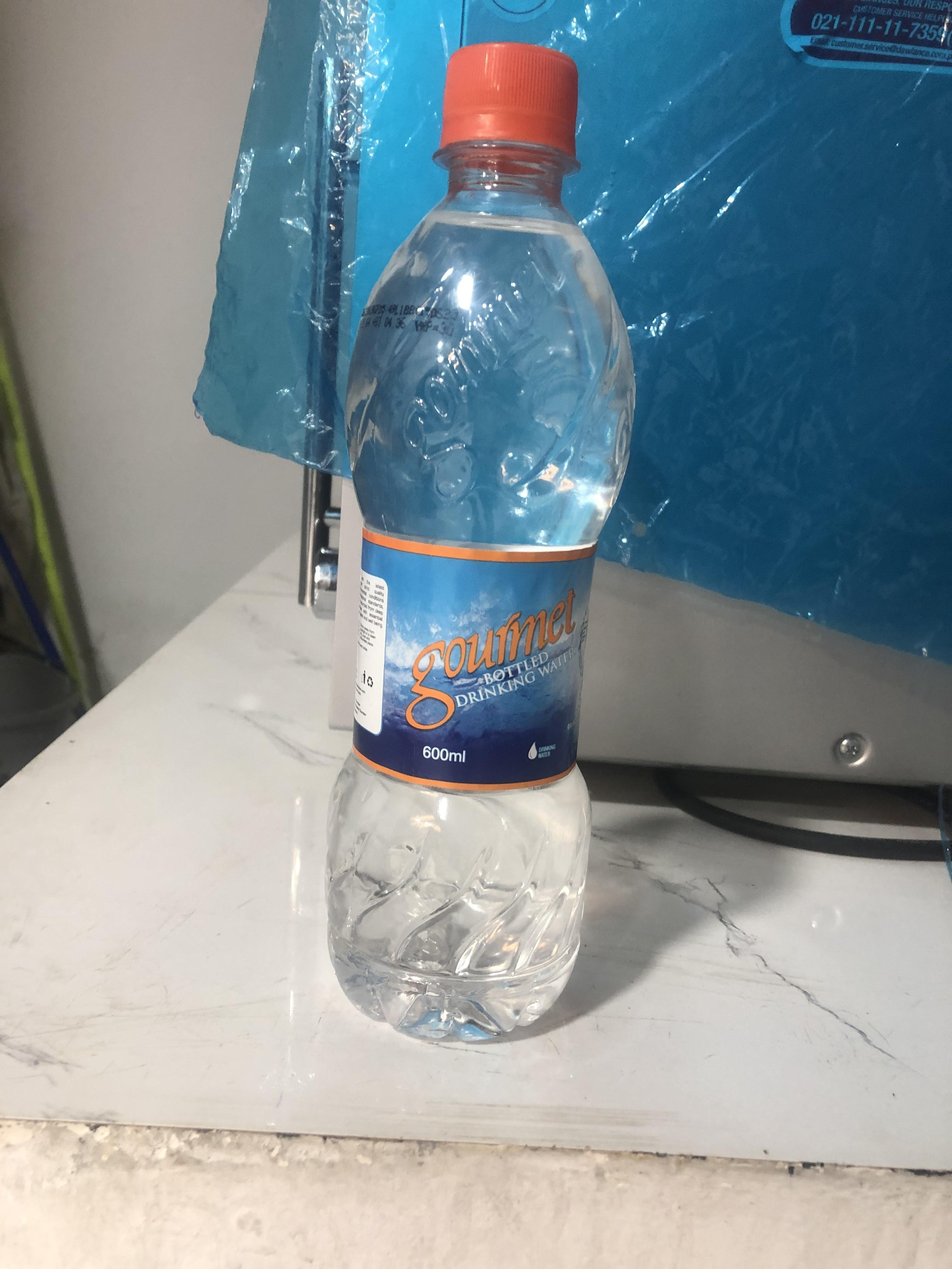bottle-plastic: (319, 27, 650, 1070)
